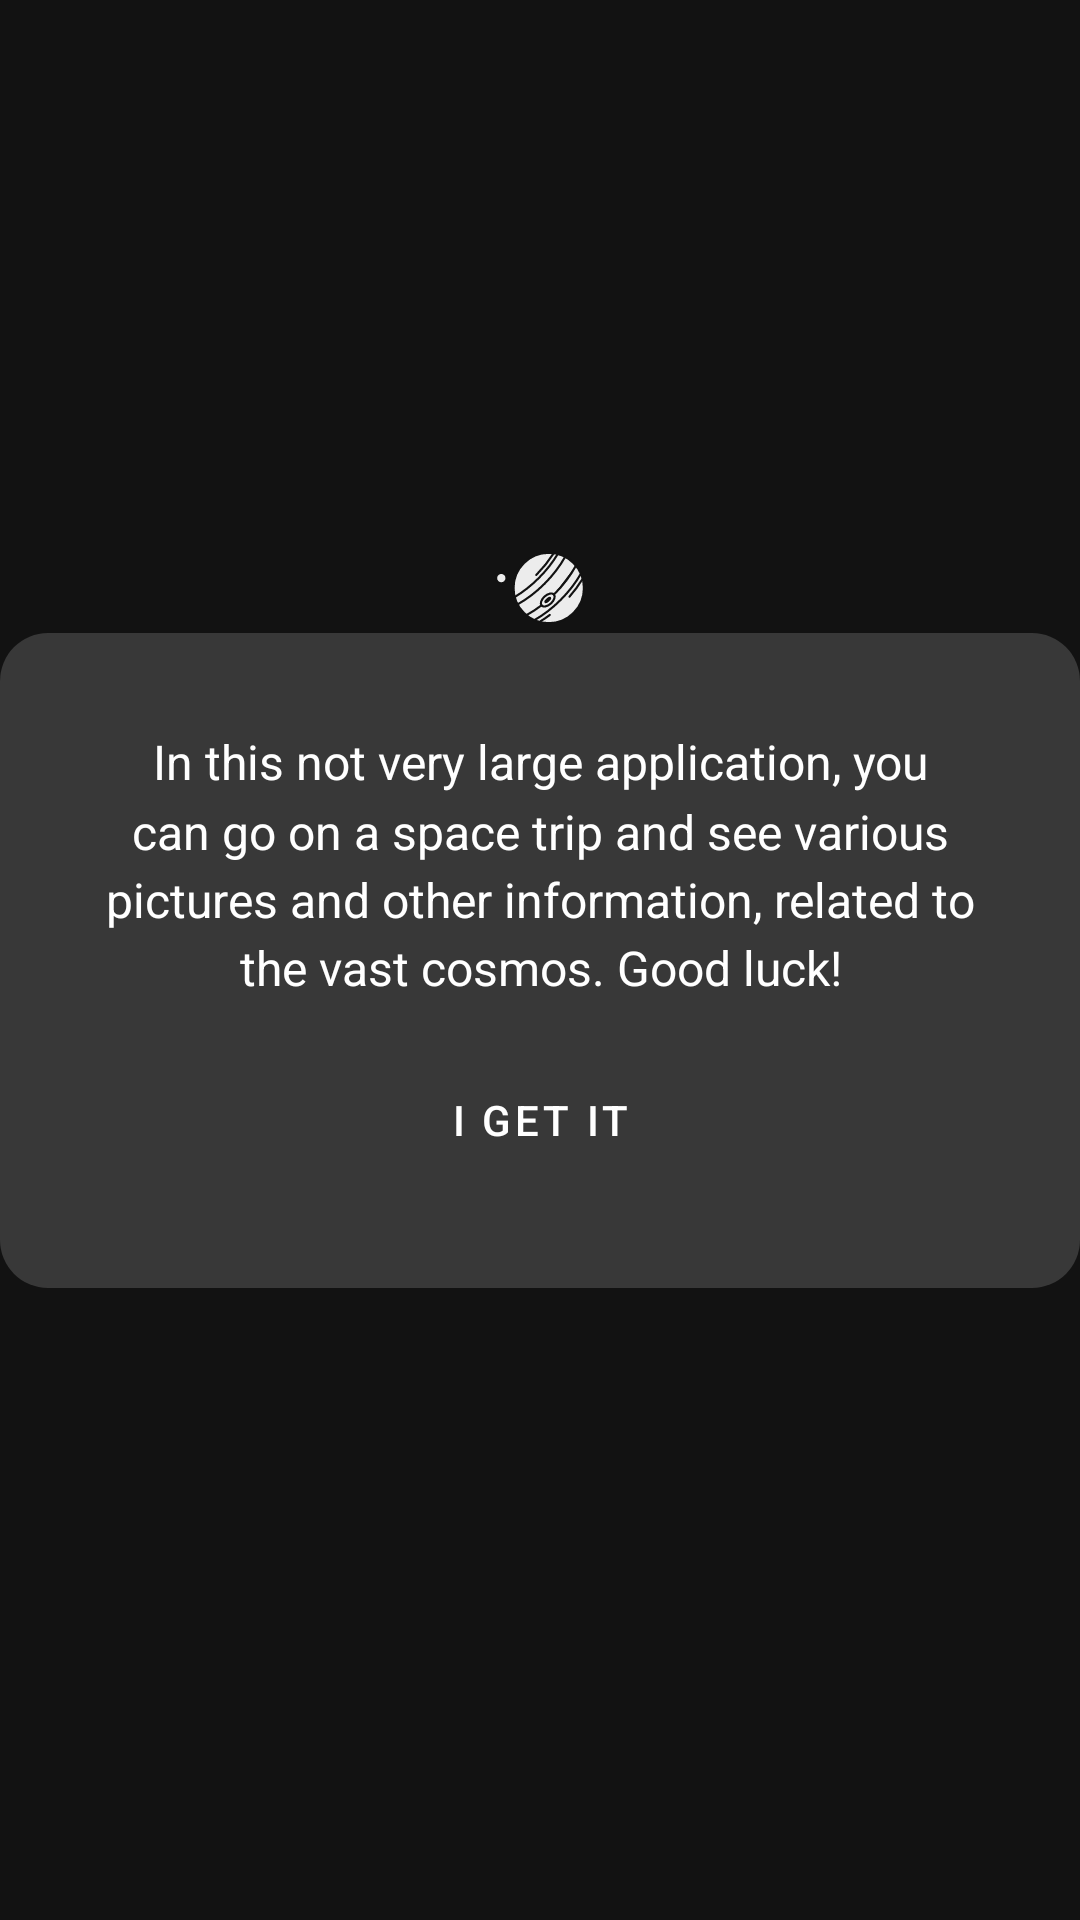

Icon click points for this 1080x1920 phone screenshot, format [x,y]:
jupiter: [540,588]
